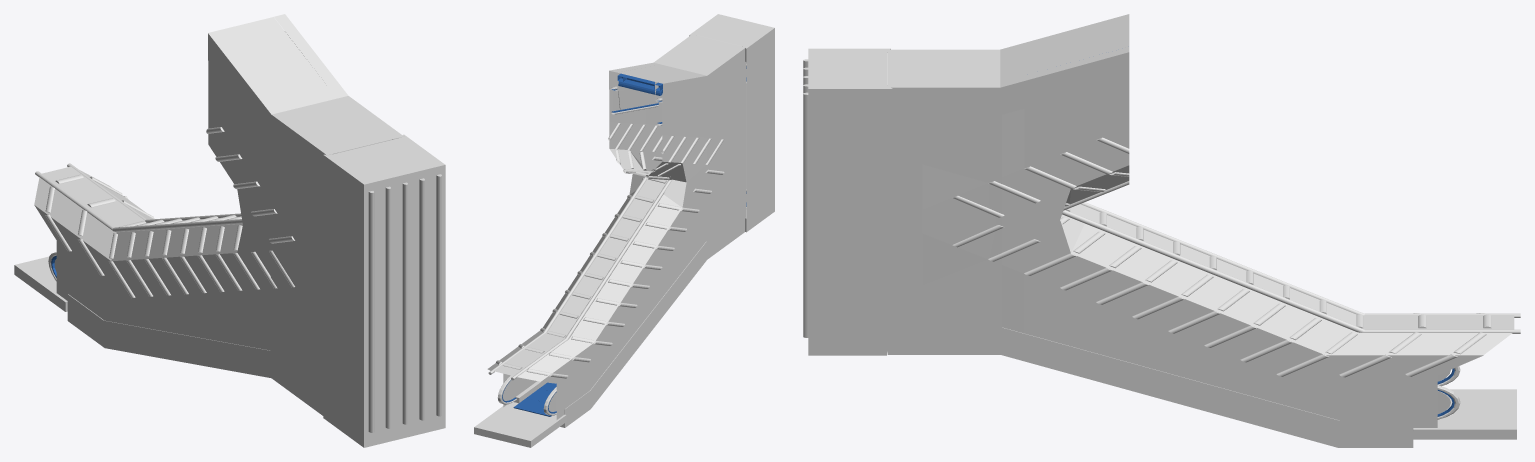
Rendered from esclator_custom_03.fbx.
The picture shows the model from 3 angles, left to right: view 1: azimuth 30°, elevation 25°; view 2: azimuth 150°, elevation 25°; view 3: azimuth 270°, elevation 25°; orthographic projection. The views are drawn at different scales.
Parts seen in each view (by area): view 1: octagon, Cylinder.007; view 2: octagon; view 3: octagon, Cylinder.007.
Boxes of the visible parts, x1=… form: octagon: x1=14, y1=14, x2=445, y2=447; Cylinder.007: x1=368, y1=174, x2=441, y2=432; octagon: x1=474, y1=14, x2=774, y2=447; octagon: x1=803, y1=14, x2=1520, y2=447; Cylinder.007: x1=803, y1=59, x2=808, y2=337.
Size of the model in its own units: 4754 by 21810 by 35813.
